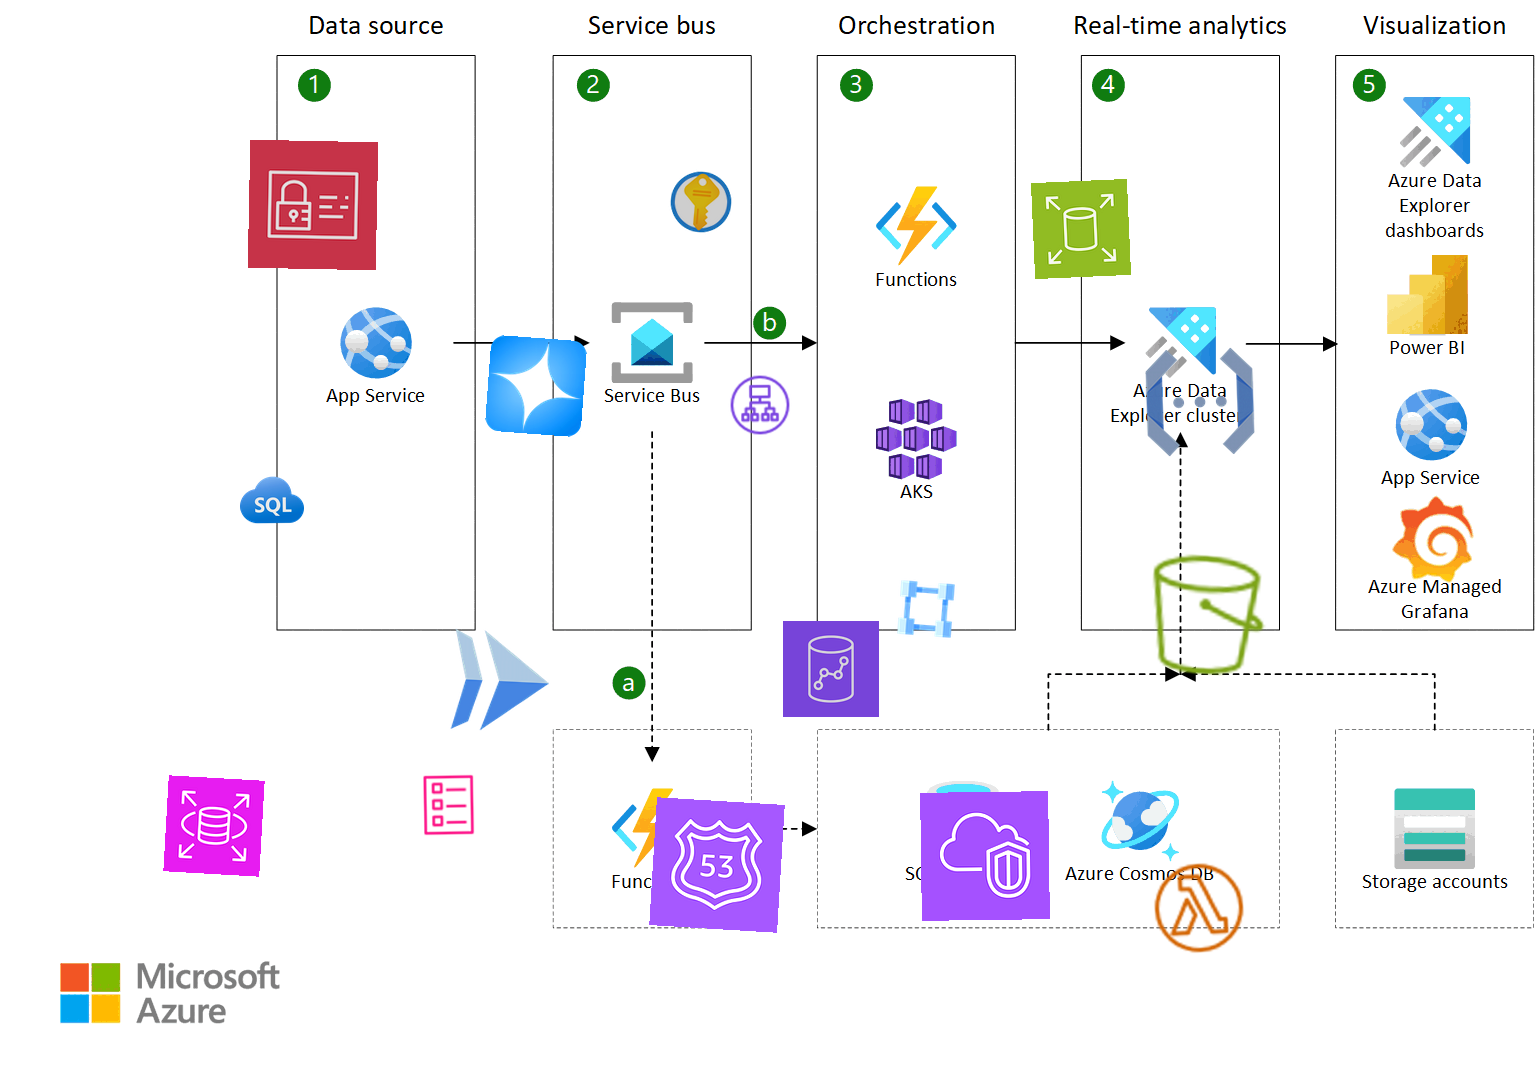aws_amazon_elastic_block_store: (1030, 178, 1132, 280)
aws_amazon_rds: (163, 775, 265, 877)
aws_amazon_redshift: (782, 620, 880, 718)
aws_amazon_route_53: (649, 797, 785, 933)
aws_amazon_virtual_private_cloud: (920, 791, 1050, 921)
aws_cloudformation_template: (415, 772, 480, 838)
aws_elastic_load_balancing_application_load_balancer: (726, 372, 793, 438)
aws_identity_and_access_management: (247, 139, 378, 271)
aws_lambda_lambda_function: (1148, 857, 1250, 959)
aws_simple_storage_service_s3_standard: (1138, 546, 1276, 684)
azure_key_vaults: (666, 166, 736, 237)
azure_openai: (484, 334, 588, 438)
azure_sql: (239, 468, 305, 534)
gcp_cloud_functions: (1133, 335, 1267, 469)
gcp_cloud_run: (431, 613, 567, 749)
gcp_virtual_private_cloud: (891, 574, 961, 643)
